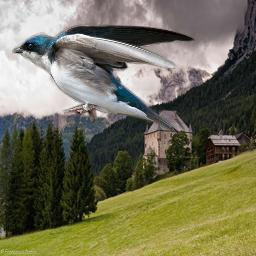Swallow: (12, 22, 196, 135)
